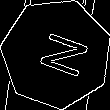N_W: (26, 26, 87, 81)
